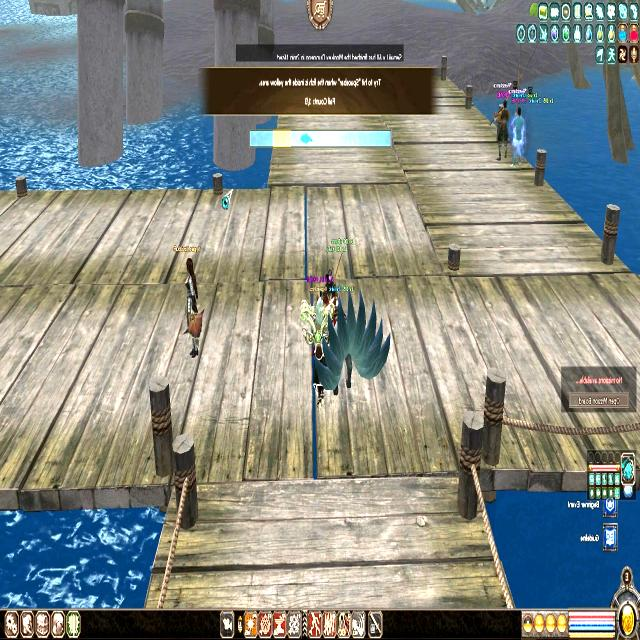box: (273, 132, 291, 146)
fishes: (300, 131, 313, 147)
